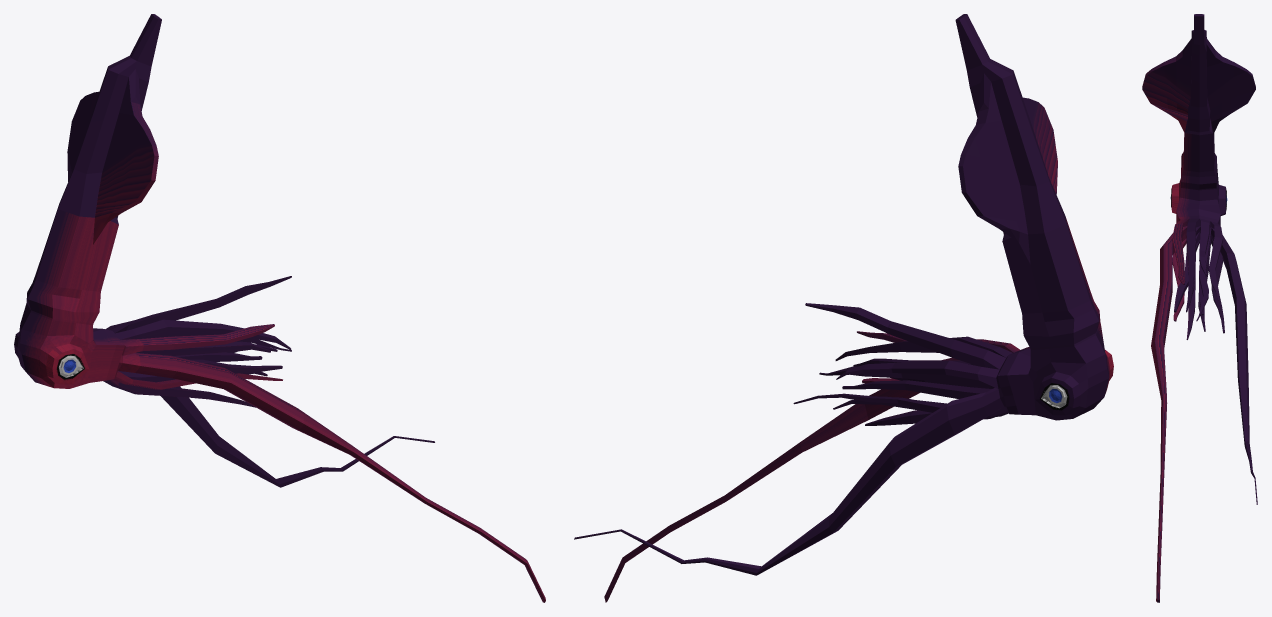
3 renders of one model, left to right at view 1: azimuth 30°, elevation 25°; view 2: azimuth 150°, elevation 25°; view 3: azimuth 270°, elevation 25°, orthographic. The views are drawn at different scales.
Visible parts, largest first — view 1: 立方体.201_Baked; view 2: 立方体.201_Baked; view 3: 立方体.201_Baked.
Part boxes in pixels (box(x1,y1,x2,y2)): 立方体.201_Baked: box(14, 14, 545, 602); 立方体.201_Baked: box(574, 14, 1113, 602); 立方体.201_Baked: box(1142, 14, 1257, 602).
Size of the model in its own units: 53.29 by 67.07 by 15.15.
